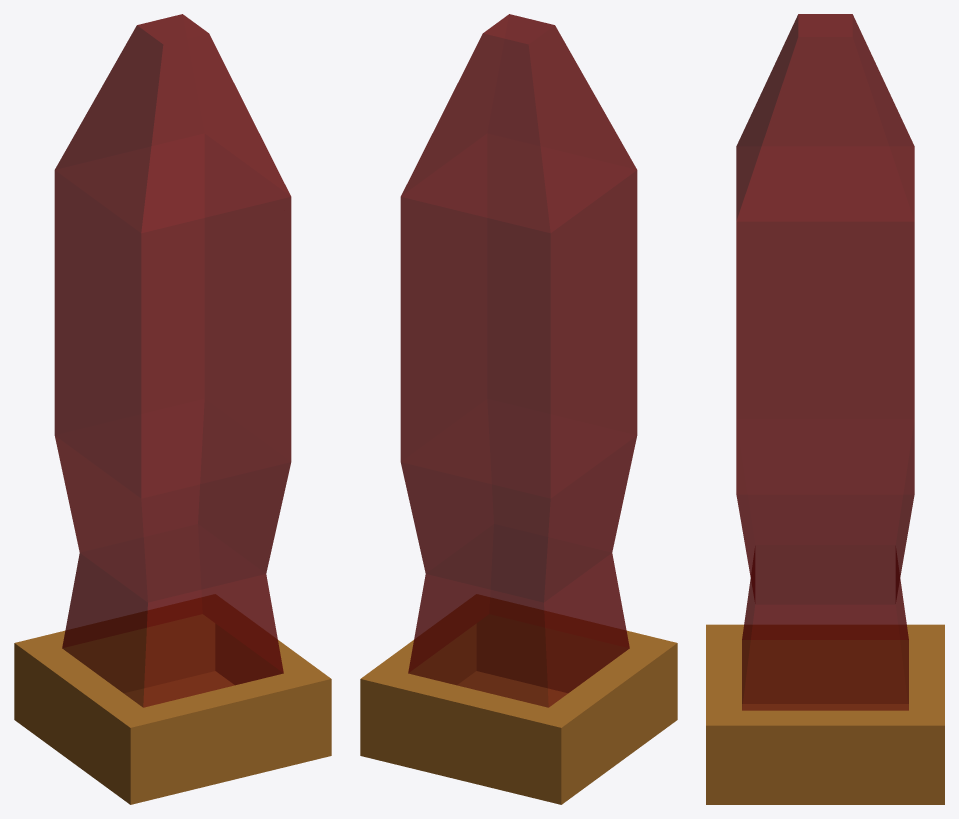
Rendered from Ruby_Pillar.fbx.
The picture shows the model from 3 angles, left to right: view 1: azimuth 30°, elevation 25°; view 2: azimuth 150°, elevation 25°; view 3: azimuth 270°, elevation 25°; orthographic projection. The views are drawn at different scales.
Parts seen in each view (by area): view 1: pCube1; view 2: pCube1; view 3: pCube1.
Boxes of the visible parts, box(x1,y1,x2,y2) form: pCube1: box(14, 14, 331, 804); pCube1: box(360, 14, 677, 804); pCube1: box(706, 14, 944, 804).
Bounding box in the file's own units: 1 × 3.37 × 1.
